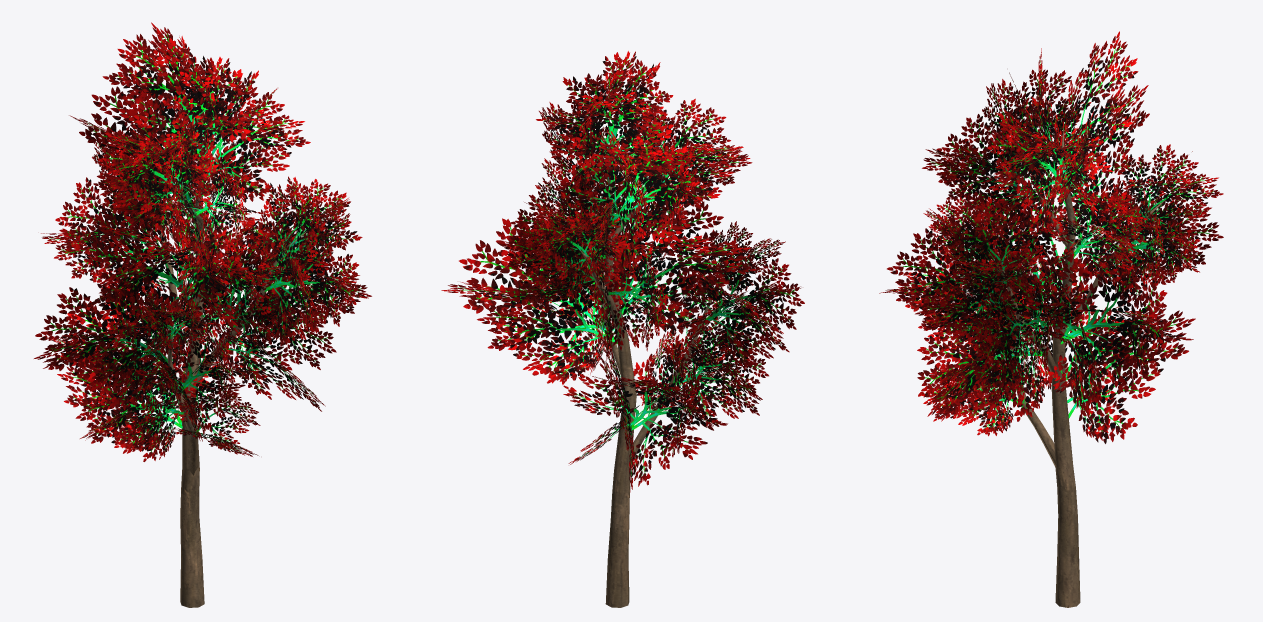
The model's file is Tree_Tall_01.fbx.
3 renders of one model, left to right at view 1: azimuth 30°, elevation 25°; view 2: azimuth 150°, elevation 25°; view 3: azimuth 270°, elevation 25°, orthographic. The views are drawn at different scales.
Parts seen in each view (by area): view 1: Tree_Tall_01_LOD0; view 2: Tree_Tall_01_LOD0; view 3: Tree_Tall_01_LOD0.
Boxes of the visible parts, x1,y1,x2,y2 form: Tree_Tall_01_LOD0: (34, 22, 371, 607); Tree_Tall_01_LOD0: (441, 51, 804, 607); Tree_Tall_01_LOD0: (879, 31, 1223, 607).
Size of what is drawn, in the model's own units: 8.74 by 13.41 by 7.97.
1 material, 1 textured.
